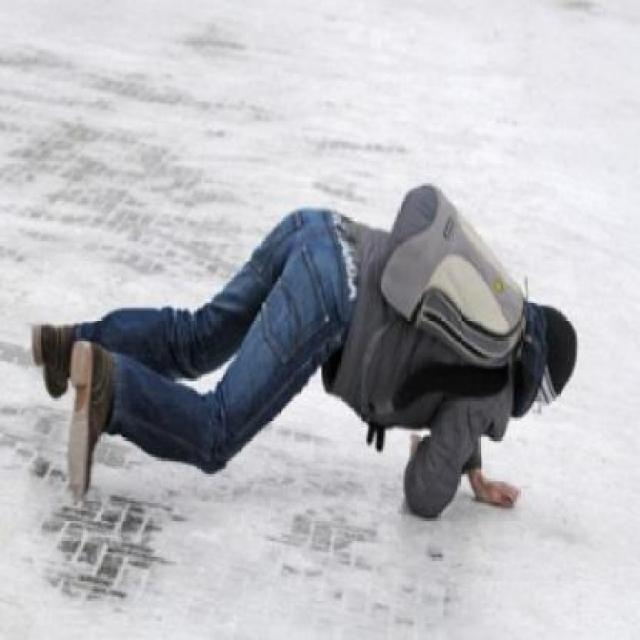fall: (24, 172, 576, 530)
